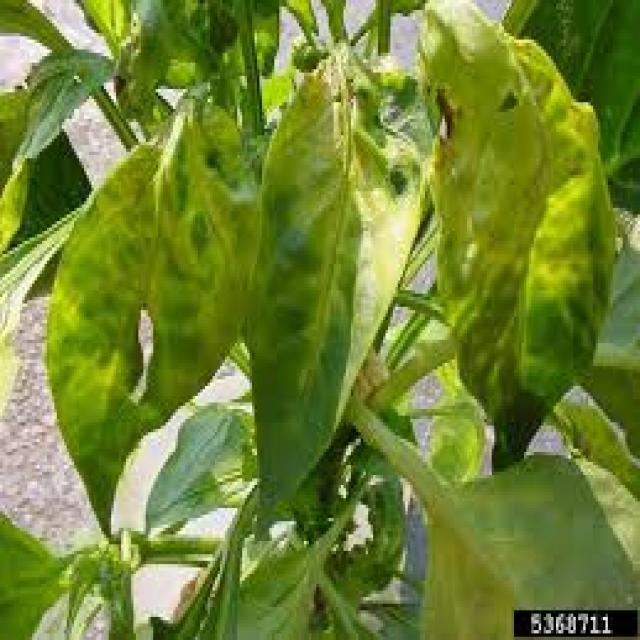virus_kuning: (38, 104, 254, 542), (398, 0, 613, 327)
